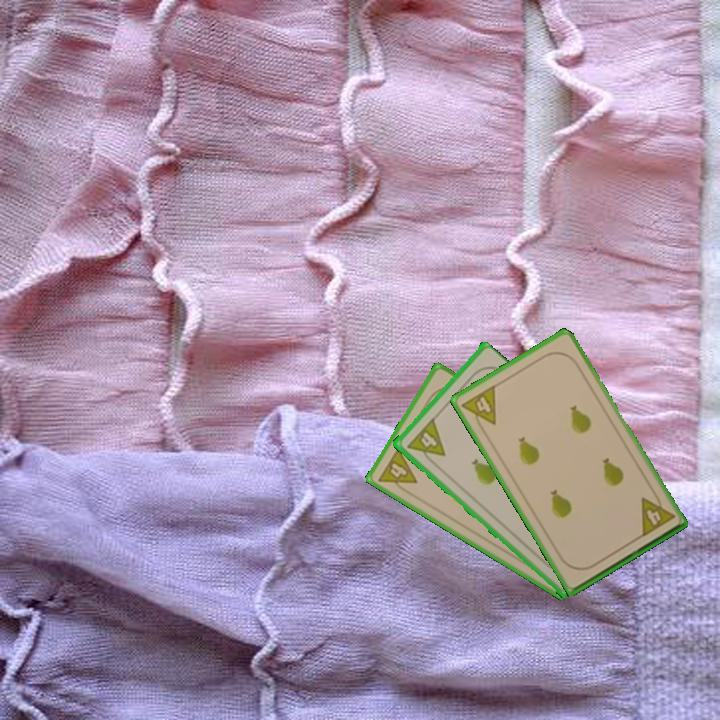4p: (374, 444, 420, 498), (403, 415, 448, 468), (458, 381, 499, 434), (637, 488, 677, 540)
